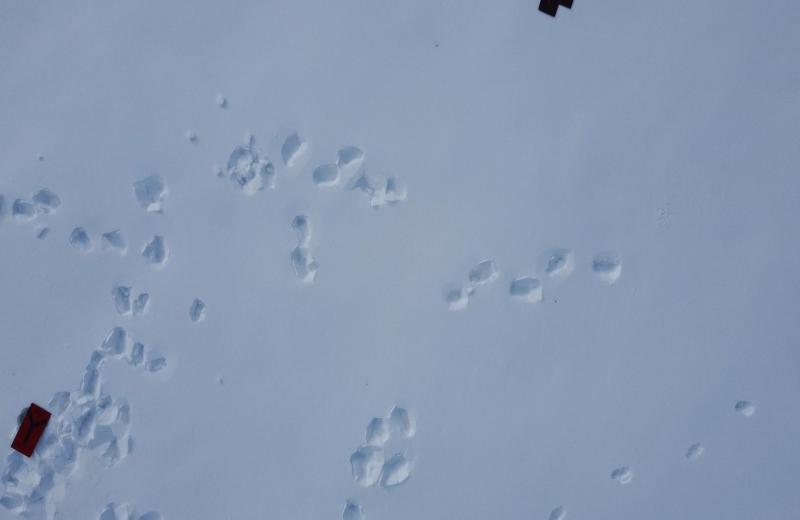Cross: (536, 0, 576, 20)
Rectangle: (11, 399, 52, 458)
